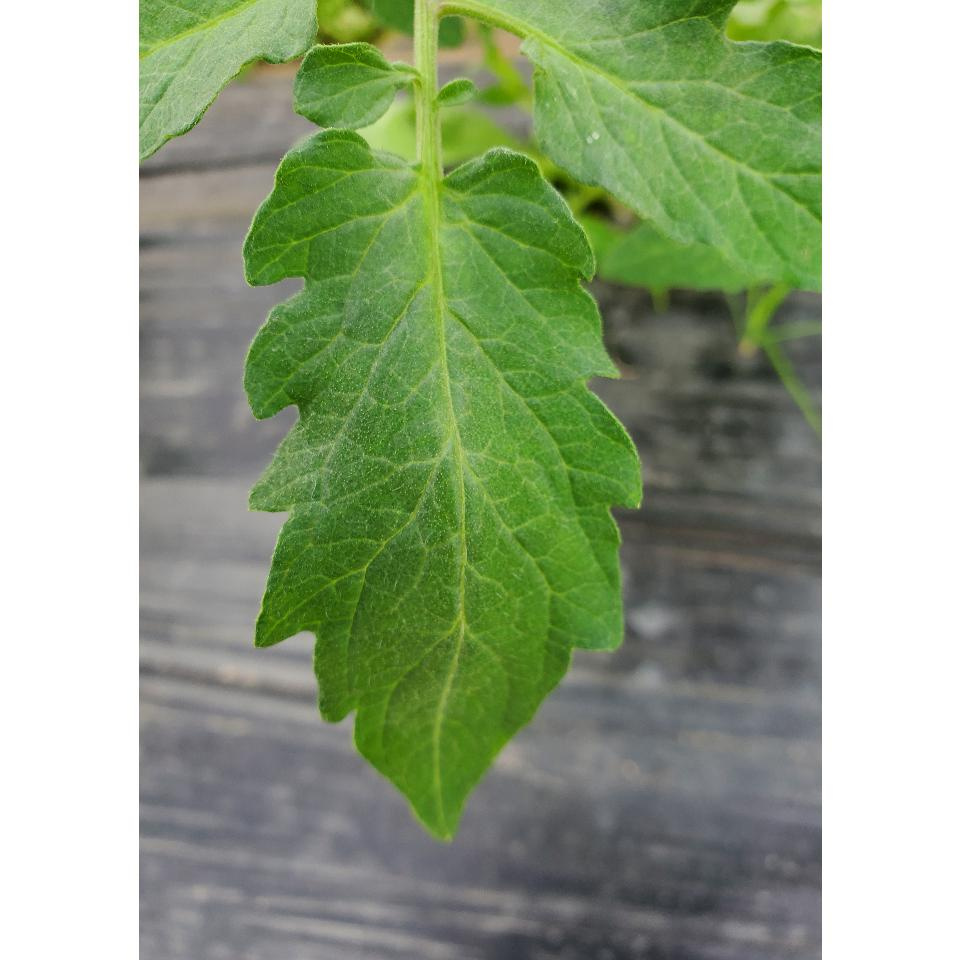tomato_leaves: (250, 135, 640, 833)
